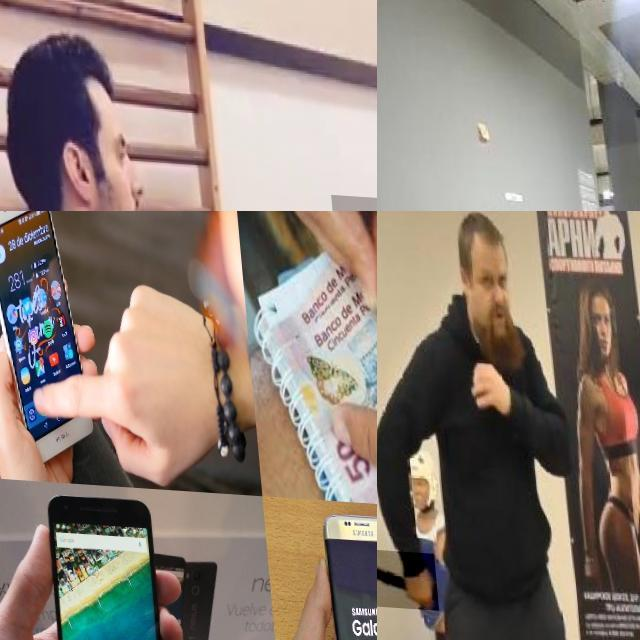-: (377, 544, 429, 605)
